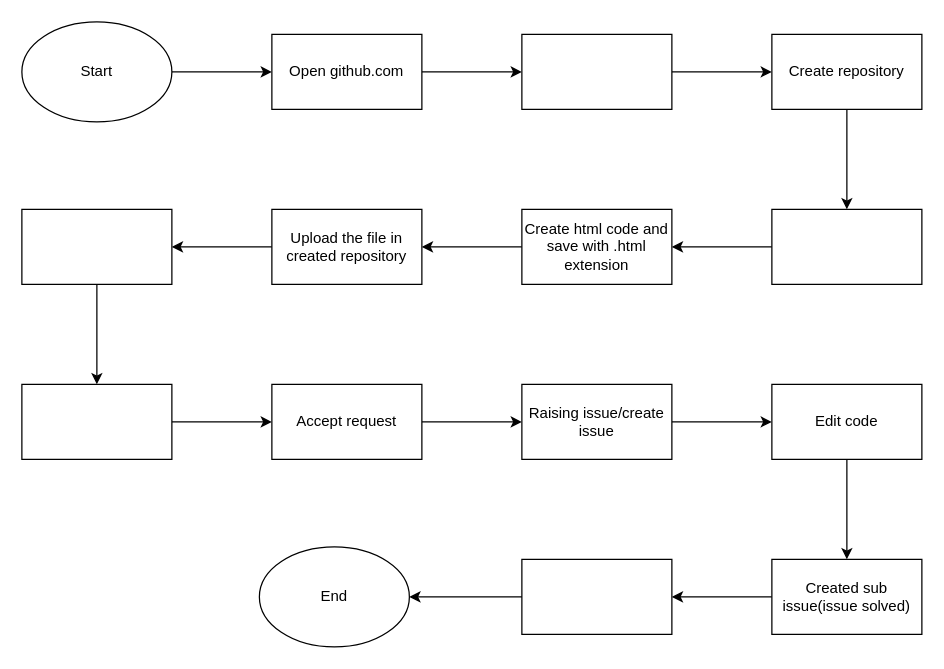
This 944x669 diagram has some shape labels left out. The shapes that lost their labels are listed below. From the top down, each one's centre as x and y in pixels, then its label:
At point (596, 71): "Sign in".
At point (96, 246): "Go to settings -> collaborators".
At point (846, 246): "Give name and description to repository".
At point (96, 421): "Add people/sending invitation".
At point (596, 596): "Mark as completed".
